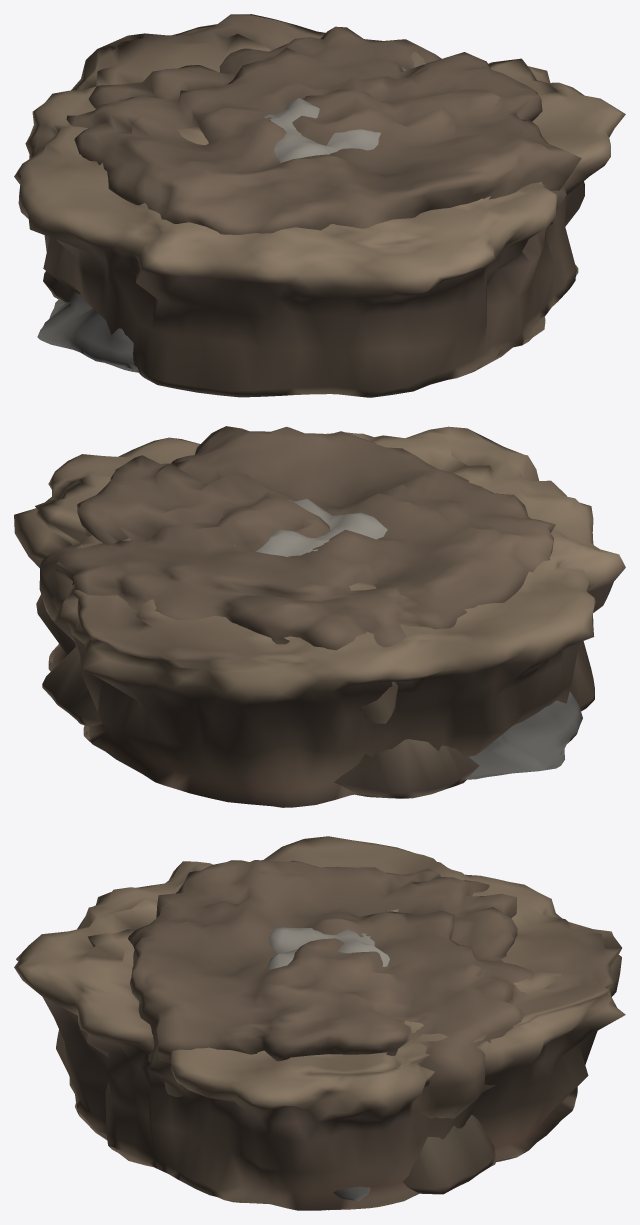
File: rocks.glb
3 views of the same model, one above another, from view 1: azimuth 30°, elevation 25°; view 2: azimuth 150°, elevation 25°; view 3: azimuth 270°, elevation 25° (orthographic). The views are drawn at different scales.
Parts seen in each view (by area): view 1: rock, rock2, boulder2, boulder; view 2: rock, rock2, boulder2, boulder; view 3: rock, rock2, boulder.
Boxes of the visible parts, x1,y1,x2,y2 form: rock: [14, 14, 625, 397]; rock2: [43, 26, 581, 302]; boulder2: [37, 292, 139, 372]; boulder: [264, 98, 380, 162]; rock: [14, 426, 625, 807]; rock2: [39, 426, 555, 798]; boulder2: [464, 691, 582, 779]; boulder: [234, 499, 387, 556]; rock: [14, 836, 625, 1210]; rock2: [128, 860, 534, 1194]; boulder: [266, 926, 389, 969].
Bounding box in the file's own units: 1.66 × 0.4878 × 1.65.
